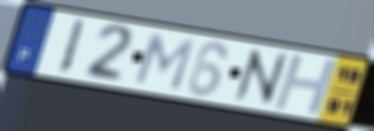2: (84, 23, 137, 82)
6: (185, 40, 233, 99)
H: (270, 53, 340, 117)
I: (55, 17, 89, 78)
M: (131, 31, 198, 93)
N: (230, 46, 290, 107)
